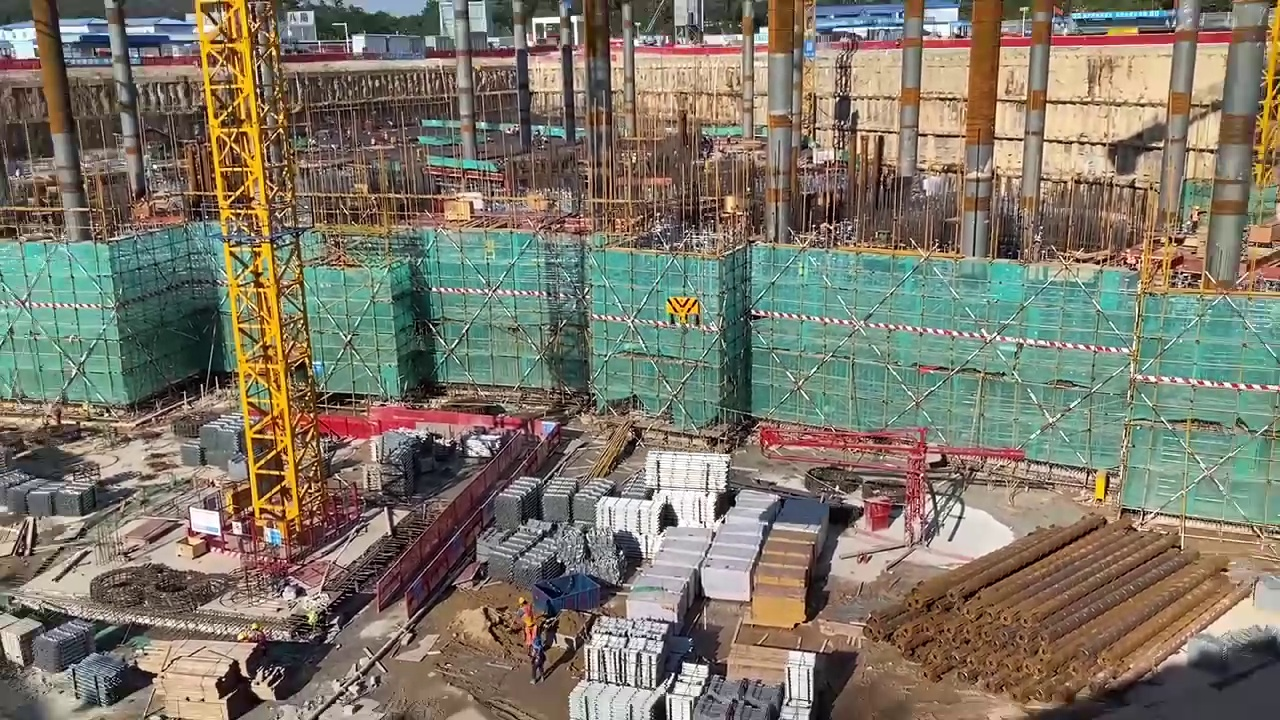board: (757, 527, 811, 628)
fence: (369, 398, 564, 445)
hook: (668, 293, 702, 325)
person: (529, 640, 548, 689), (515, 596, 535, 628), (523, 618, 540, 653)
rebar: (873, 511, 1267, 720)
scaffold: (492, 521, 625, 584), (583, 615, 669, 684), (494, 473, 597, 522), (3, 472, 97, 520), (568, 678, 661, 720), (647, 449, 729, 493), (69, 654, 133, 705), (199, 414, 245, 475), (39, 623, 93, 672), (593, 498, 666, 531), (781, 654, 817, 720)
wood: (160, 653, 278, 720)
